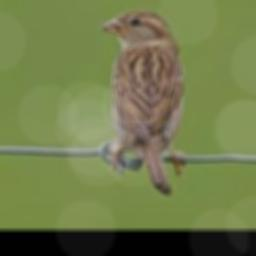Sparrow: (100, 8, 183, 194)
